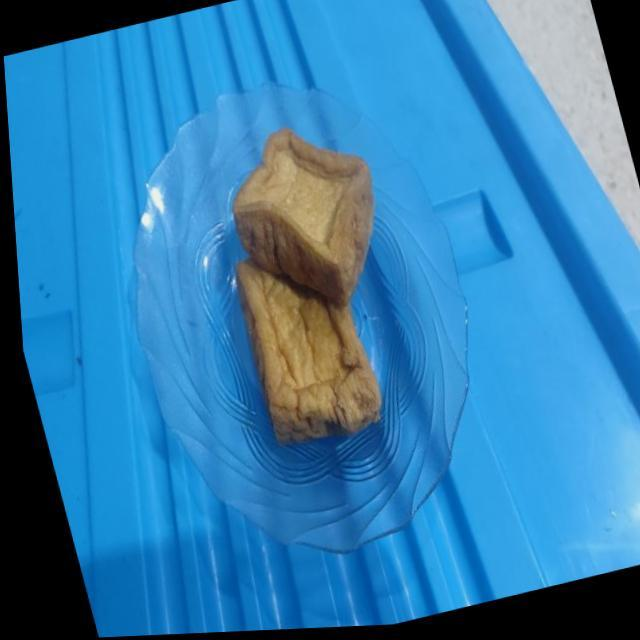tahu_goreng: (236, 257, 382, 443), (232, 128, 374, 308)
